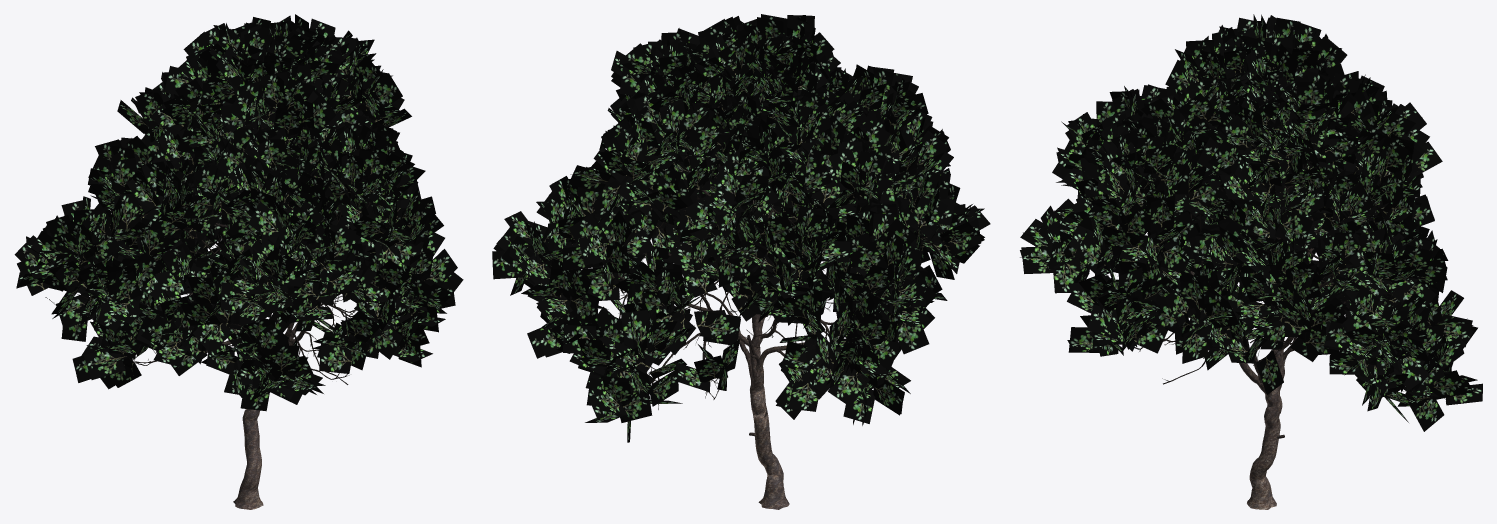
The model's file is arbol.glb.
3 renders of one model, left to right at view 1: azimuth 30°, elevation 25°; view 2: azimuth 150°, elevation 25°; view 3: azimuth 270°, elevation 25°, orthographic. The views are drawn at different scales.
Parts seen in each view (by area): view 1: Eucalyptus_Diffuse.1699_Leaves_0, Eucalyptus_Tree_0; view 2: Eucalyptus_Diffuse.1699_Leaves_0, Eucalyptus_Tree_0; view 3: Eucalyptus_Diffuse.1699_Leaves_0, Eucalyptus_Tree_0.
Boxes of the visible parts, bbox=[...] form: Eucalyptus_Diffuse.1699_Leaves_0: bbox=[14, 14, 463, 411]; Eucalyptus_Tree_0: bbox=[45, 94, 410, 509]; Eucalyptus_Diffuse.1699_Leaves_0: bbox=[492, 14, 990, 442]; Eucalyptus_Tree_0: bbox=[544, 110, 940, 509]; Eucalyptus_Diffuse.1699_Leaves_0: bbox=[1020, 14, 1482, 431]; Eucalyptus_Tree_0: bbox=[1122, 97, 1431, 509].
Bounding box in the file's own units: 10.06 × 11.5 × 9.95.
2 materials, 2 textured.
